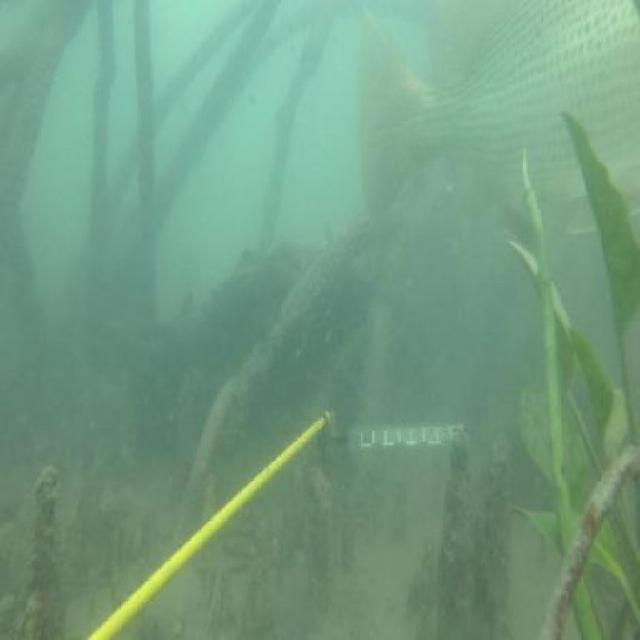lutjanus_johnii: (349, 1, 640, 245)
